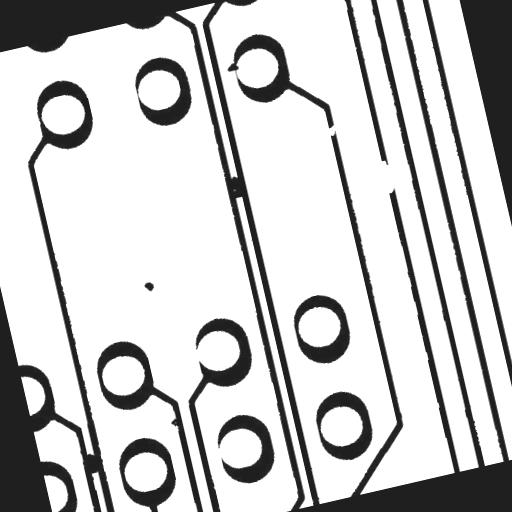copper: (134, 272, 164, 301)
open: (371, 150, 406, 202), (317, 116, 347, 146)
short: (220, 166, 254, 208), (74, 444, 107, 484)
spur: (217, 53, 248, 81), (160, 406, 188, 436)
